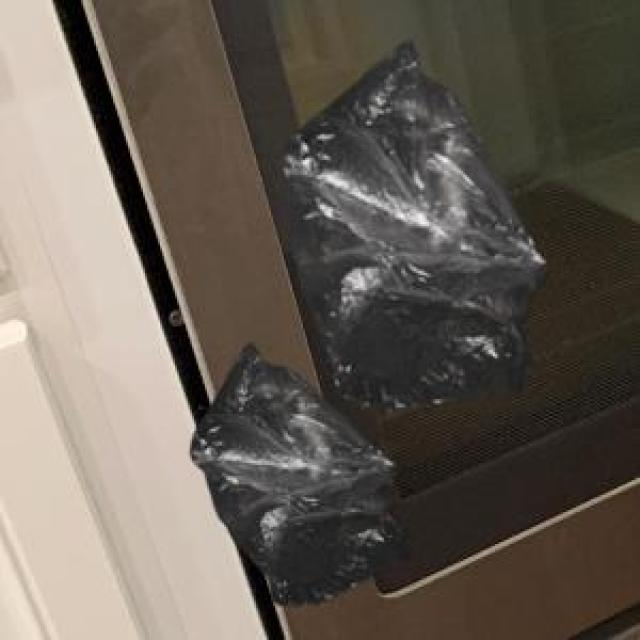plastic: (169, 34, 560, 624)
